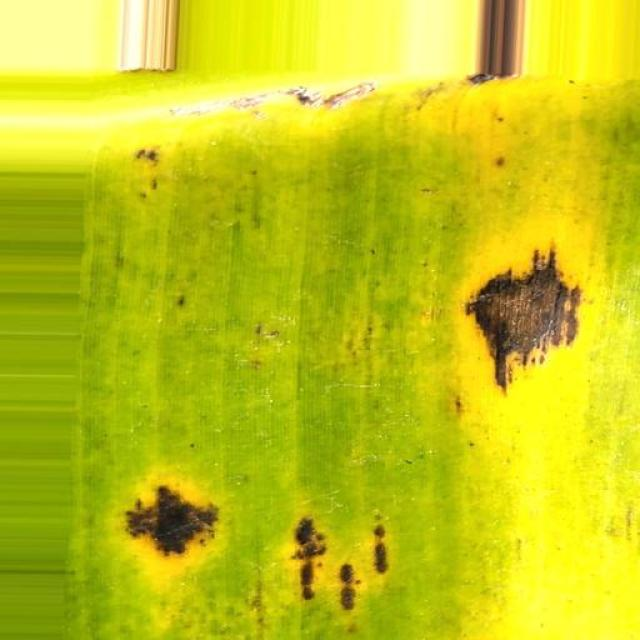Early_rust: (101, 435, 431, 640), (428, 220, 636, 432), (209, 56, 455, 177)
